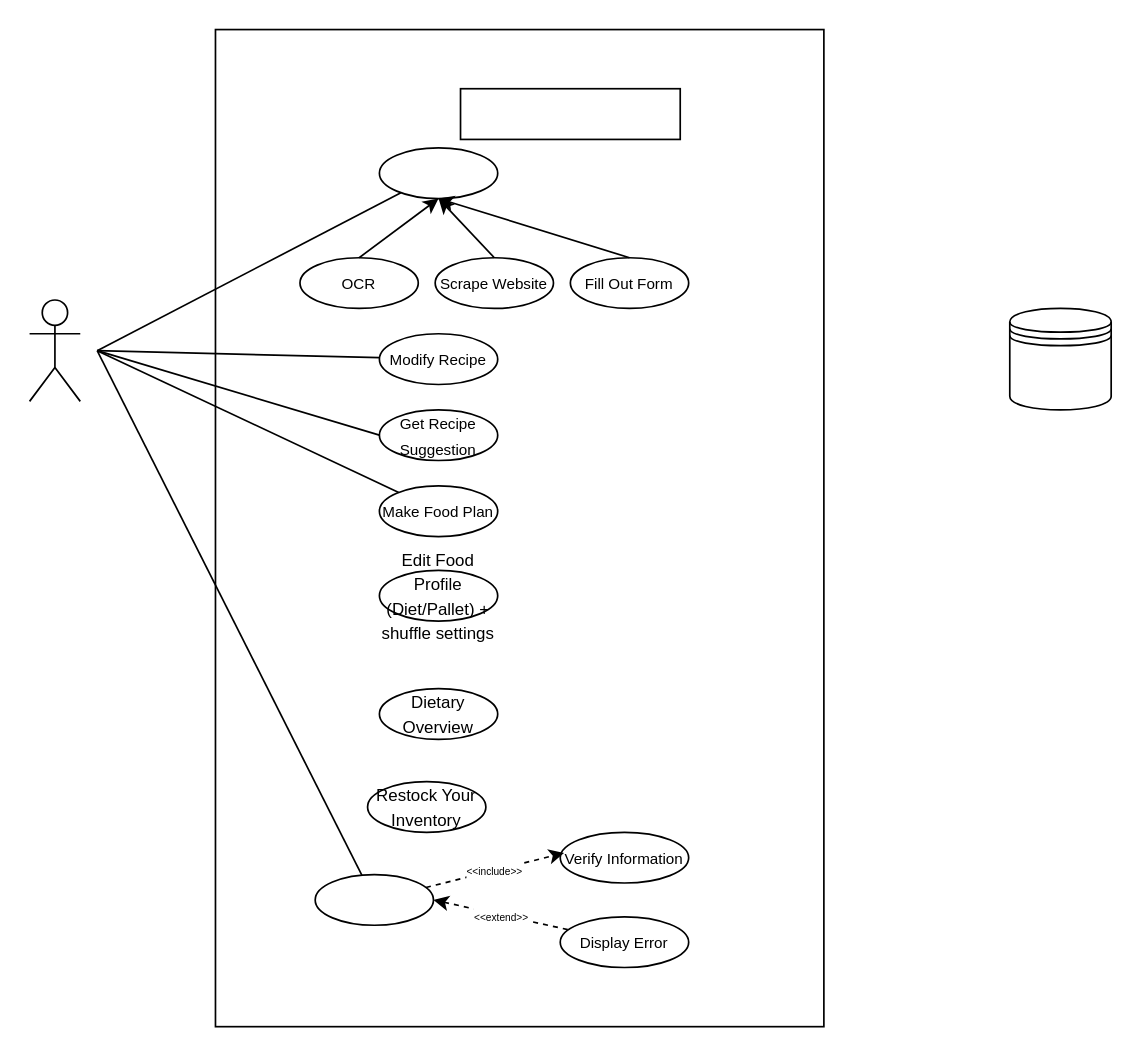
This 1141x1056 diagram has some shape labels left out. Each missing label, with the centre of its shape:
"Actor" goes at point 54,349.
"Chefs Friend" goes at point 569,113.
"Create Recipe" goes at point 438,172.
"Login/out" goes at point 373,899.
